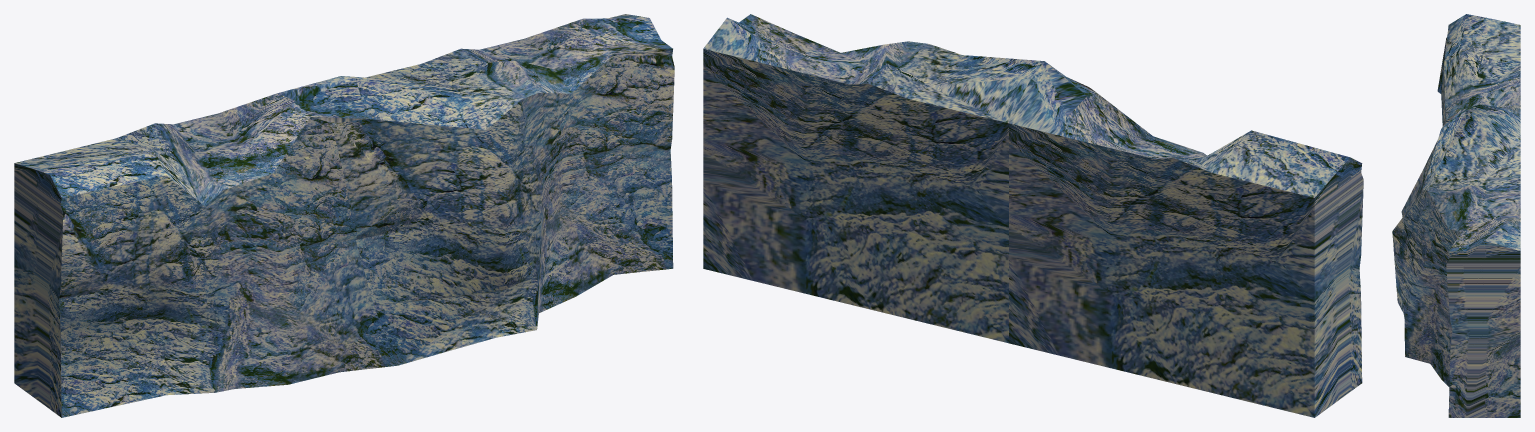
File: rockWall_bulge_03.fbx
The picture shows the model from 3 angles, left to right: view 1: azimuth 30°, elevation 25°; view 2: azimuth 150°, elevation 25°; view 3: azimuth 270°, elevation 25°; orthographic projection. The views are drawn at different scales.
Visible parts, largest first — view 1: polySurface1; view 2: polySurface1; view 3: polySurface1.
Boxes of the visible parts, x1,y1,x2,y2 form: polySurface1: (14,14,674,417); polySurface1: (703,14,1363,417); polySurface1: (1392,14,1520,417).
Bounding box in the file's own units: 32 × 12.81 × 7.67.
